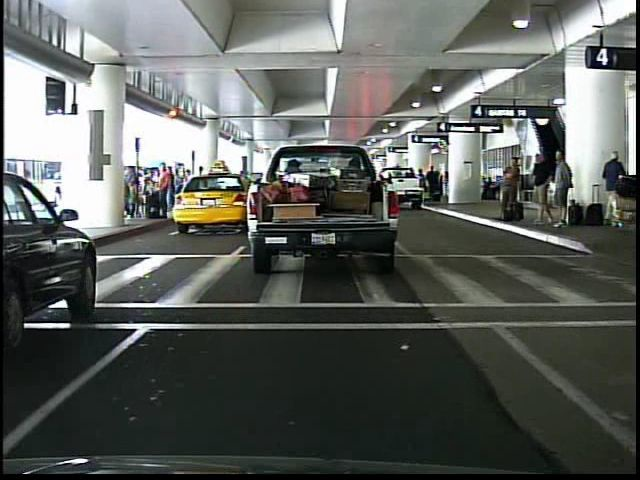person: (597, 149, 625, 233)
